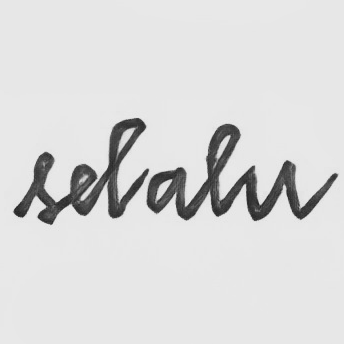a: (145, 164, 188, 217)
e: (66, 160, 99, 219)
l: (103, 116, 150, 221), (202, 120, 242, 219)
s: (27, 149, 62, 227)
u: (243, 157, 300, 223)
